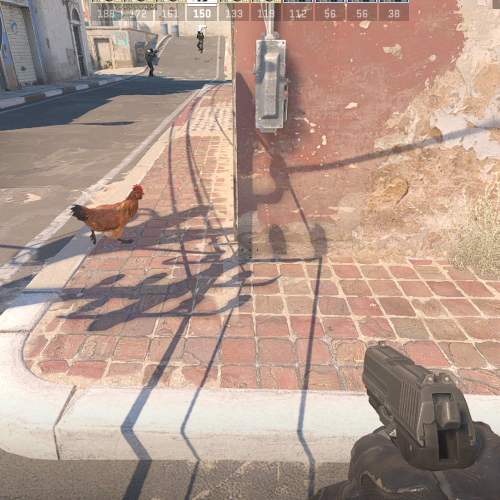chicken: (73, 185, 144, 249)
ct_body: (145, 47, 159, 78), (195, 31, 205, 54)
